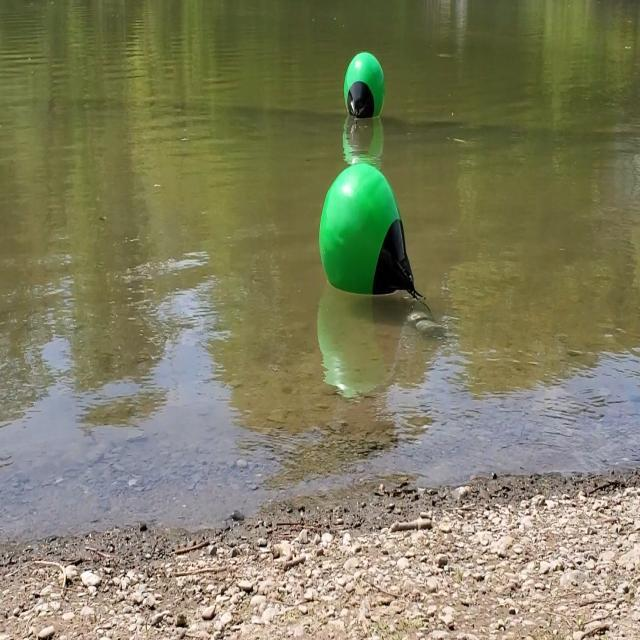buoy: (318, 158, 415, 302), (344, 48, 386, 122)
